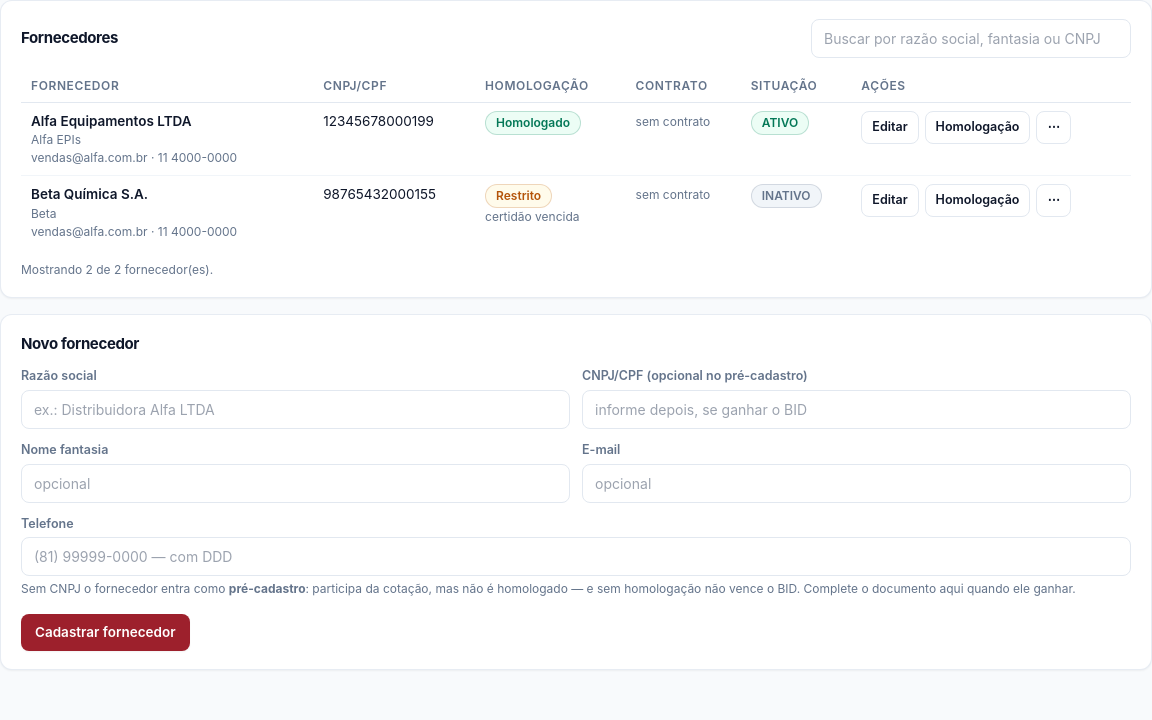
Scenario: <Fornecedores /> › editar trava razão social e CNPJ já gravado, que a API não altera
This screenshot has width=1152, height=720.
Expected: the table with test id "tabela-fornecedores" is shown, top-left (21, 70), bottom-right (1131, 248)
Click the button "Editar" in the row of "Alfa Equipamentos LTDA" at (890, 127), box top-left (861, 111), bottom-right (919, 144)
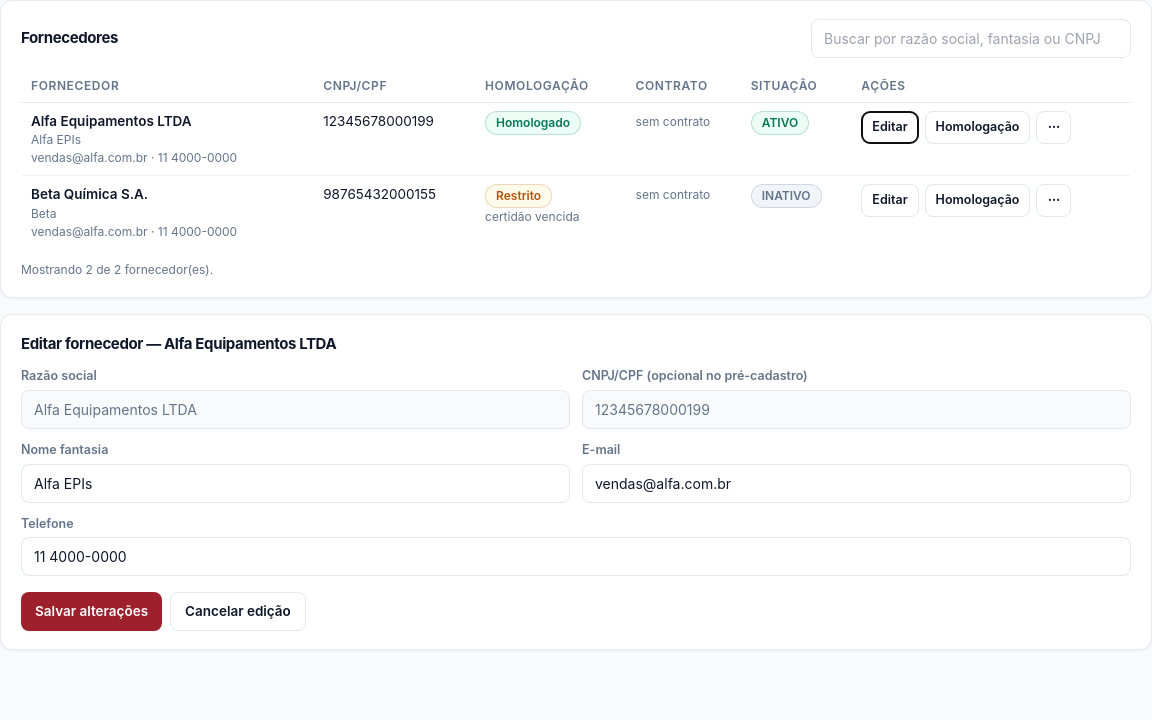
Now the field labelled "Razão social" is disabled, box top-left (21, 390), bottom-right (570, 429)
Now the field labelled "CNPJ/CPF (opcional no pré-cadastro)" is disabled, box top-left (582, 390), bottom-right (1131, 429)
Now the field labelled "Nome fantasia" holds "Alfa EPIs", box top-left (21, 464), bottom-right (570, 502)
